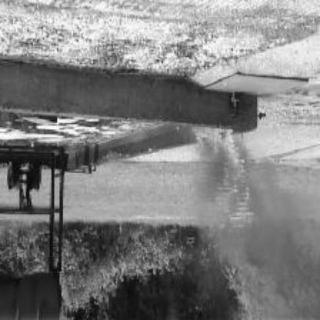Smoke: (236, 234, 312, 312)
